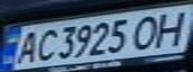2: (87, 18, 115, 56)
3: (54, 24, 78, 61)
5: (103, 16, 136, 55)
9: (72, 21, 96, 59)
A: (9, 28, 42, 65)
C: (30, 26, 60, 62)
H: (145, 7, 193, 47)
O: (124, 12, 169, 51)
